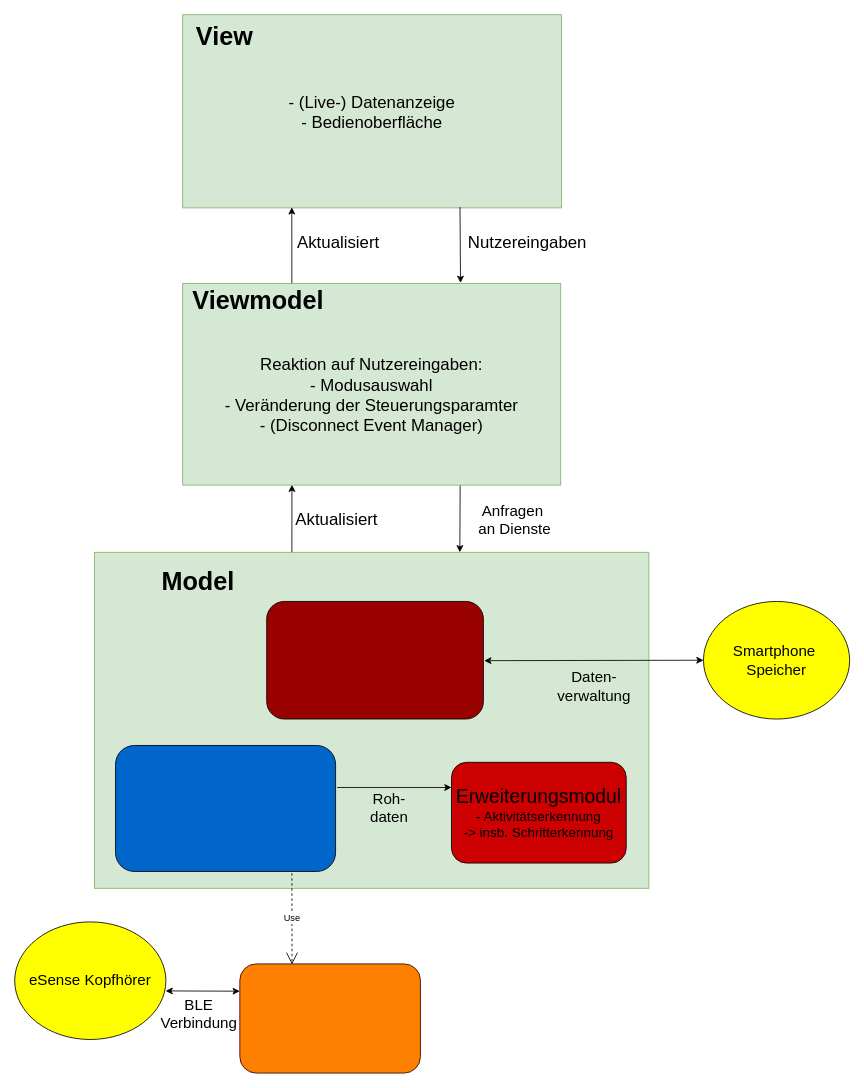
This 864x1088 diagram has some shape labels left out. Here are the shapes that lost their labels. From the top down, the centre of each, then its label:
the point at 374,660: Datenmodul - Datenspeicherung - Import/Export
the point at 225,808: Bibliothek - Datenauslesung - Steuerungsparamteranpassung
the point at 329,1018: BLE Bibliothek - Verbindungsaufbau
